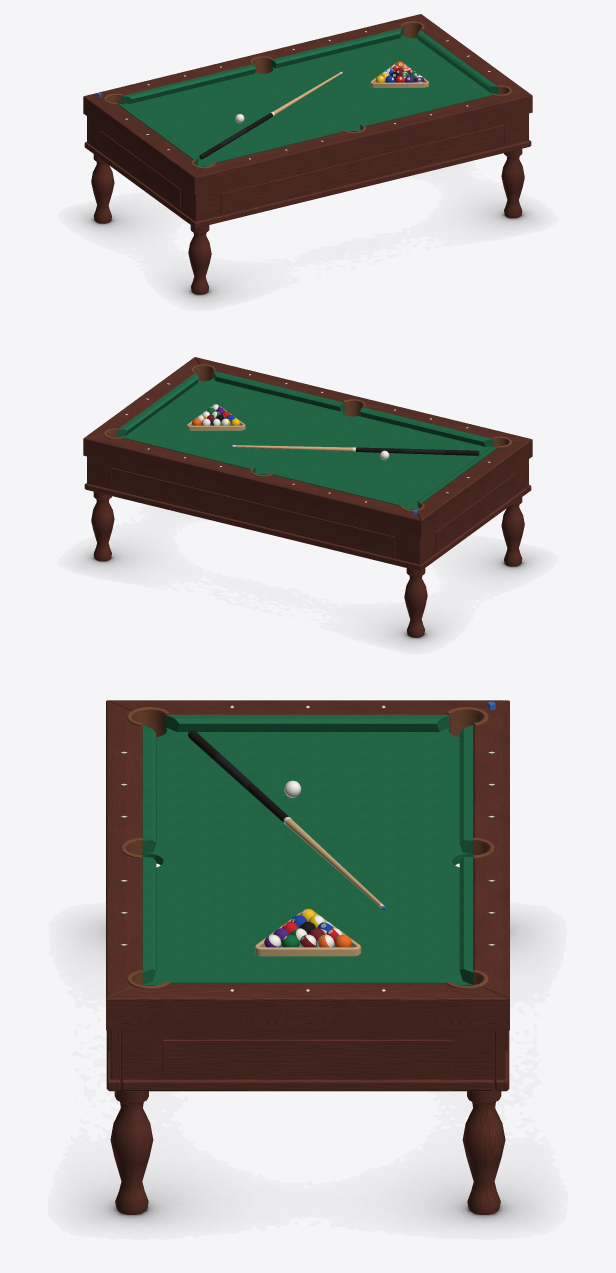
The model's file is pool_table.glb.
3 renders of one model, top to bottom at view 1: azimuth 30°, elevation 25°; view 2: azimuth 150°, elevation 25°; view 3: azimuth 270°, elevation 25°, orthographic. The views are drawn at different scales.
Visible parts, largest first — view 1: pool_table_LOD0, pool_table_Shadow; view 2: pool_table_LOD0, pool_table_Shadow; view 3: pool_table_LOD0, pool_table_Shadow.
Part boxes in pixels (x1,y1,x2,y2): pool_table_LOD0: (83,14,532,294); pool_table_Shadow: (84,207,531,299); pool_table_LOD0: (83,357,532,637); pool_table_Shadow: (84,549,531,642); pool_table_LOD0: (106,700,509,1214); pool_table_Shadow: (95,922,521,1222).
Size of what is drawn, in the model's own units: 2.91 by 0.822 by 1.92.
Materials: 5 (5 with a texture image).
